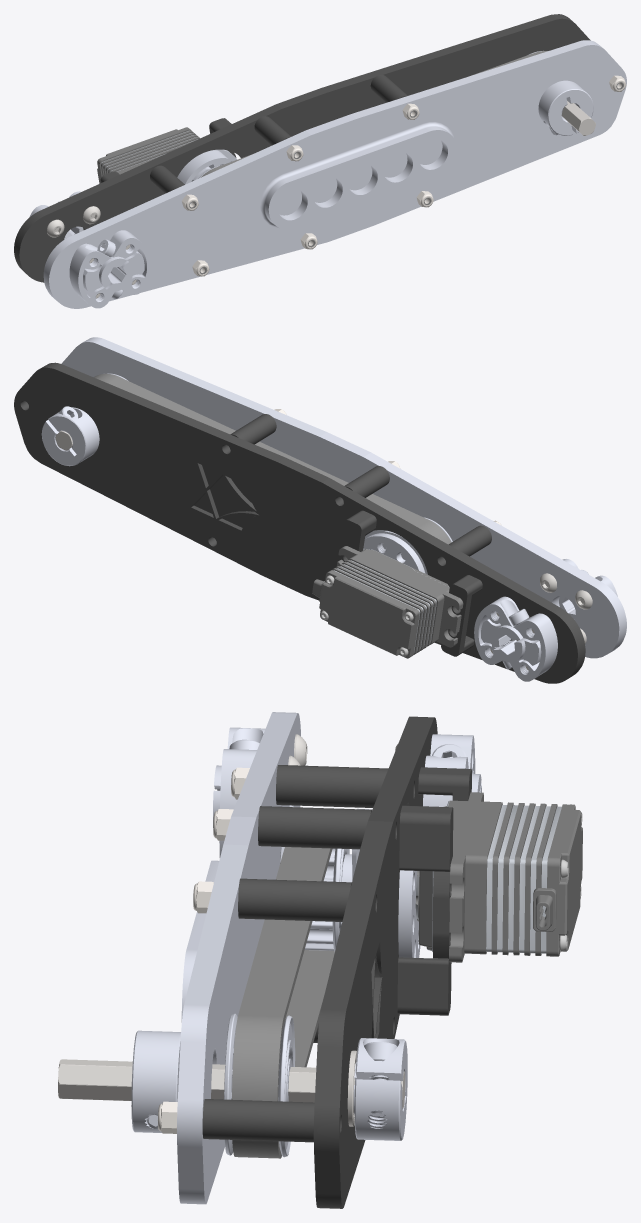
Rendered from quixilver-arm.glb.
3 renders of one model, top to bottom at view 1: azimuth 30°, elevation 25°; view 2: azimuth 150°, elevation 25°; view 3: azimuth 270°, elevation 25°, orthographic. The views are drawn at different scales.
Parts seen in each view (by area): view 1: M3 Nyloc Nut; view 2: M3 Nyloc Nut; view 3: M3 Nyloc Nut.
Boxes of the visible parts, left/top/right/bottom form: M3 Nyloc Nut: left=14, top=14, right=626, bottom=308; M3 Nyloc Nut: left=14, top=337, right=626, bottom=683; M3 Nyloc Nut: left=58, top=712, right=582, bottom=1208.
Size of the model in its own units: 0.2538 by 0.0699 by 0.1033.
Materials: 1 (1 with a texture image).
